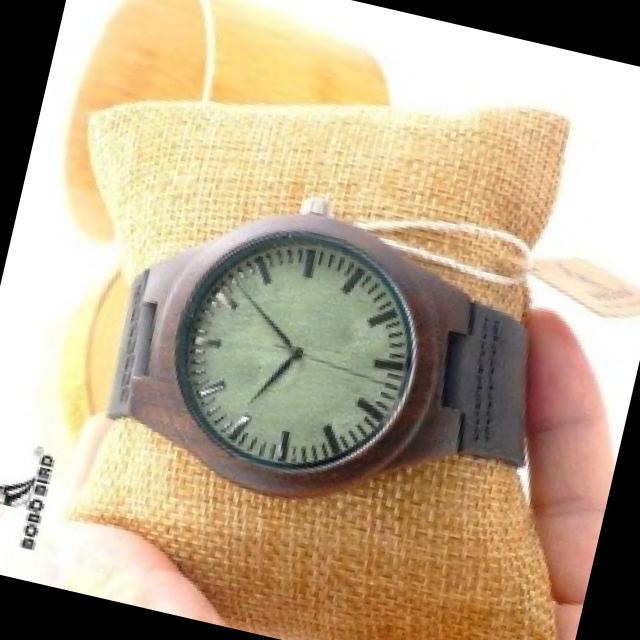saat: (72, 144, 581, 558)
